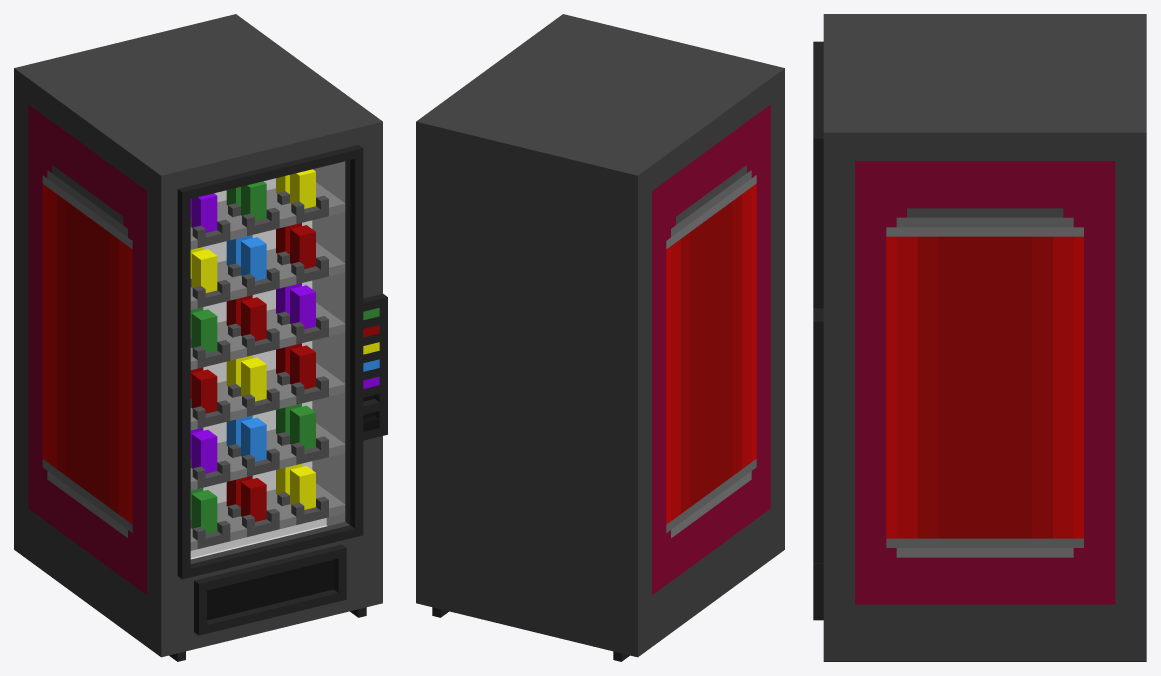
Rendered from vending-machine.glb.
3 renders of one model, left to right at view 1: azimuth 30°, elevation 25°; view 2: azimuth 150°, elevation 25°; view 3: azimuth 270°, elevation 25°, orthographic. The views are drawn at different scales.
Parts seen in each view (by area): view 1: Untitled; view 2: Untitled; view 3: Untitled.
Part boxes in pixels (bbox=[...]): Untitled: bbox=[14, 14, 387, 661]; Untitled: bbox=[416, 14, 784, 661]; Untitled: bbox=[813, 14, 1146, 661].
Size of the model in its own units: 0.8668 by 1.83 by 1.03.
